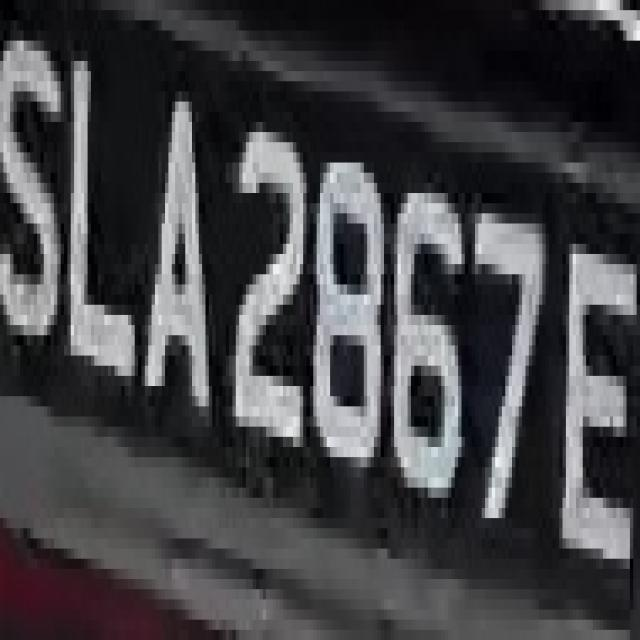2: (219, 101, 310, 488)
6: (391, 132, 465, 528)
7: (462, 152, 549, 548)
8: (304, 122, 388, 498)
A: (138, 51, 219, 467)
E: (559, 203, 633, 579)
L: (60, 71, 134, 427)
S: (6, 30, 61, 376)
